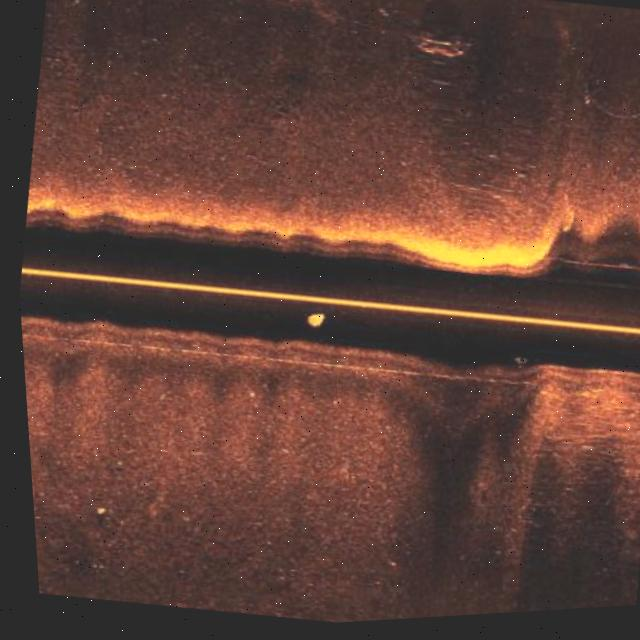mine: (85, 482, 111, 527), (570, 91, 595, 119)
